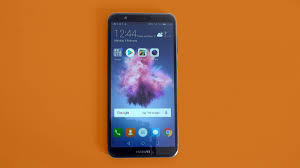huawei: (103, 9, 179, 159)
